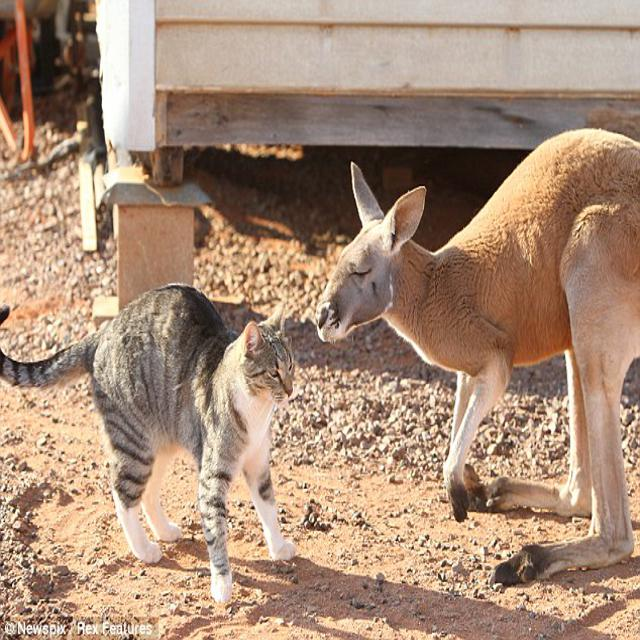kangaroo: (322, 135, 640, 410)
